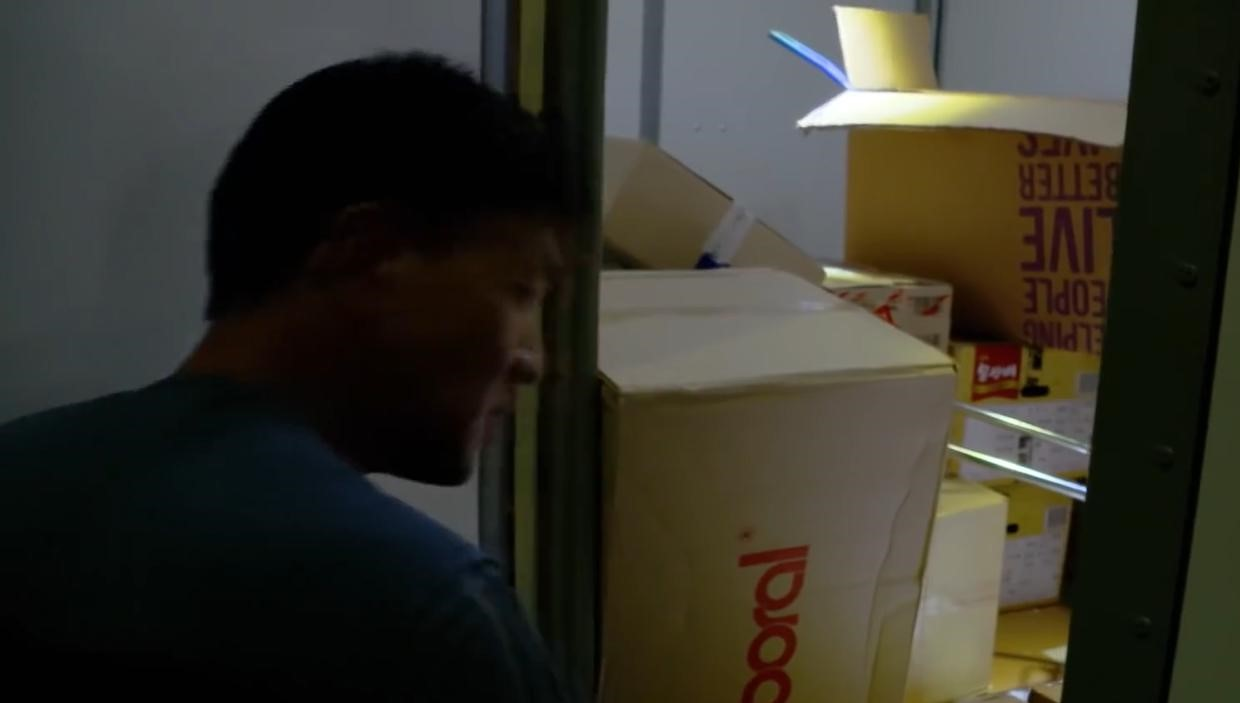without_mask: (318, 223, 528, 462)
